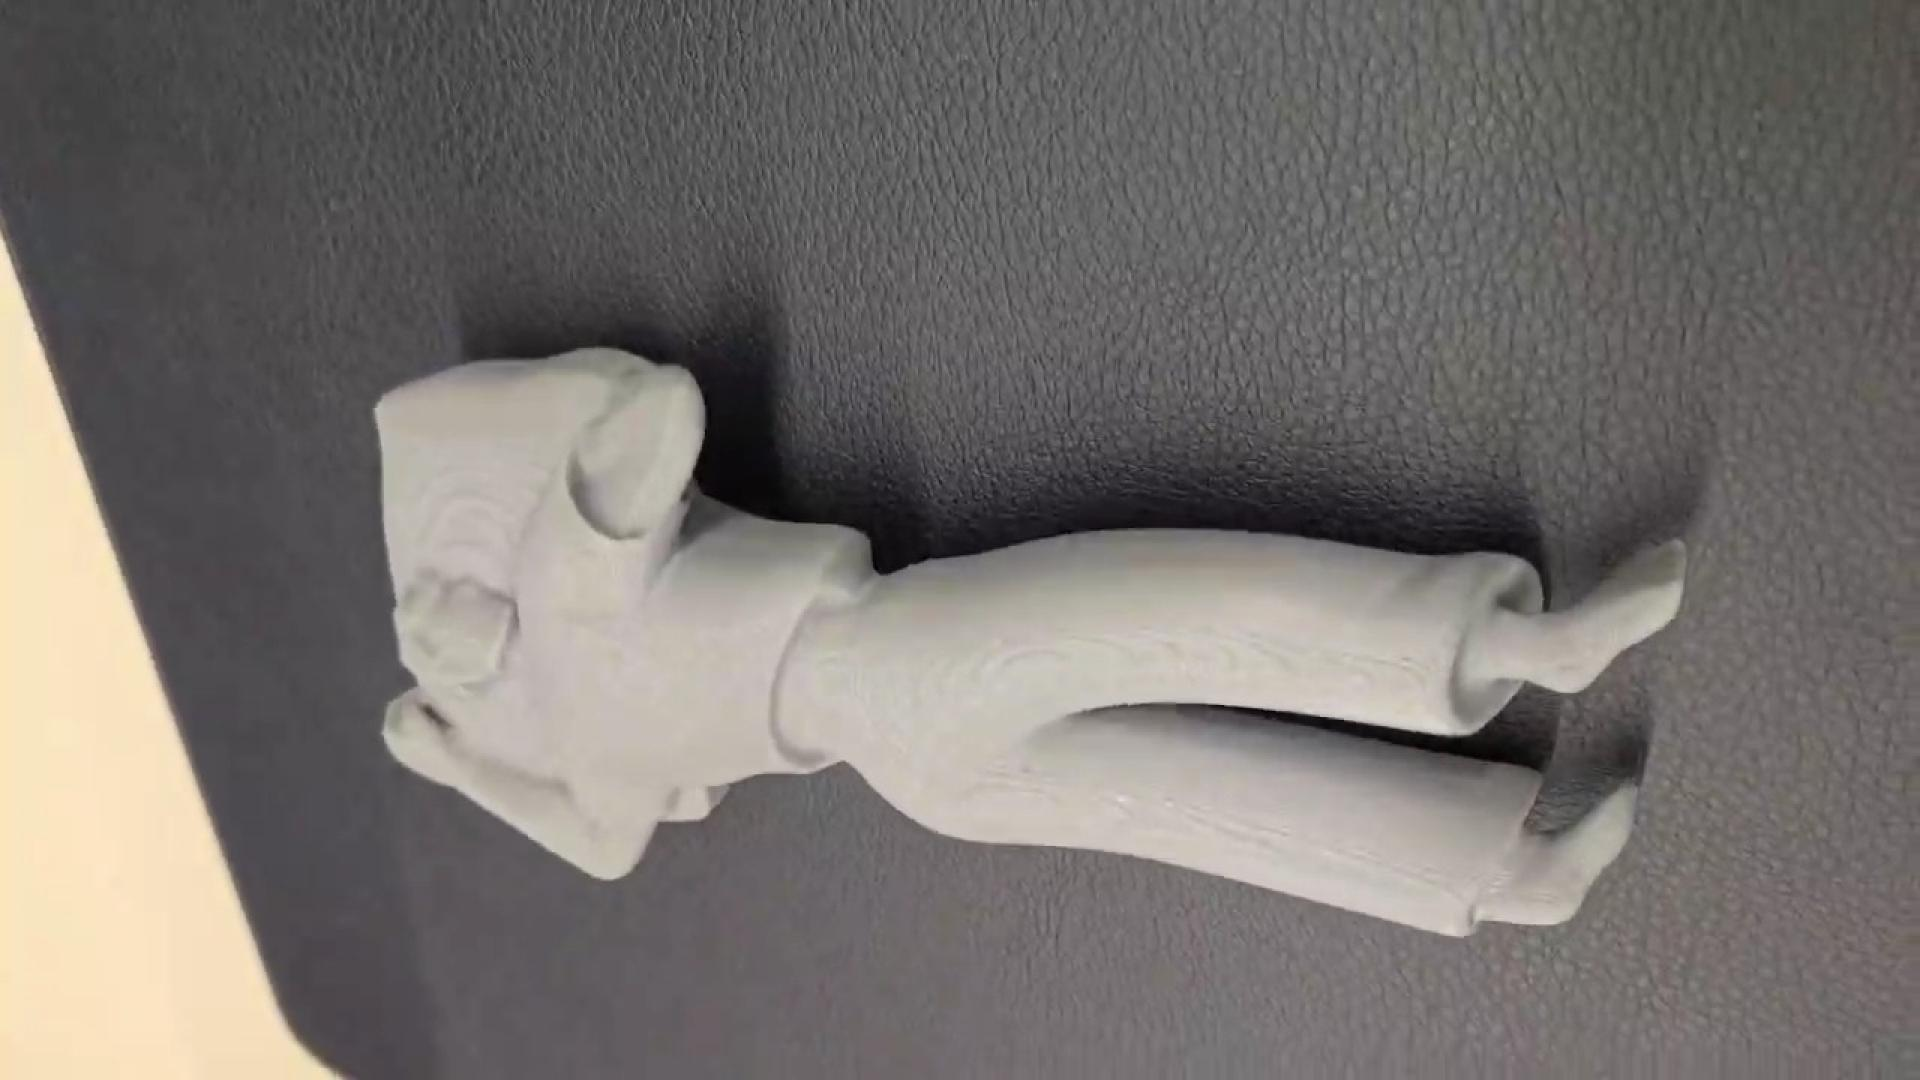Bad-style: (357, 343, 1705, 947)
